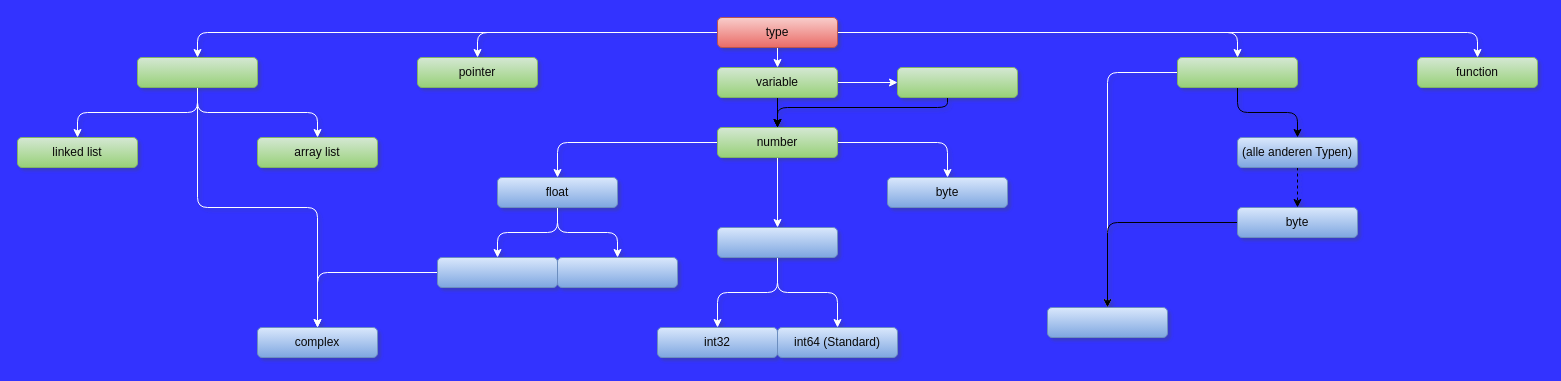
The diagram is 1561 pixels wide and 381 high, and some of its shapes have lost their labels. The box of each missing label's shape, as (x1, y1, x2, y2) in pixels:
array: (1176, 56, 1298, 88)
constant: (896, 66, 1018, 98)
float32: (556, 256, 678, 288)
float64 (Standard): (436, 256, 558, 288)
int (Standard): (716, 226, 838, 258)
string: (1046, 306, 1168, 338)
struct: (136, 56, 258, 88)
